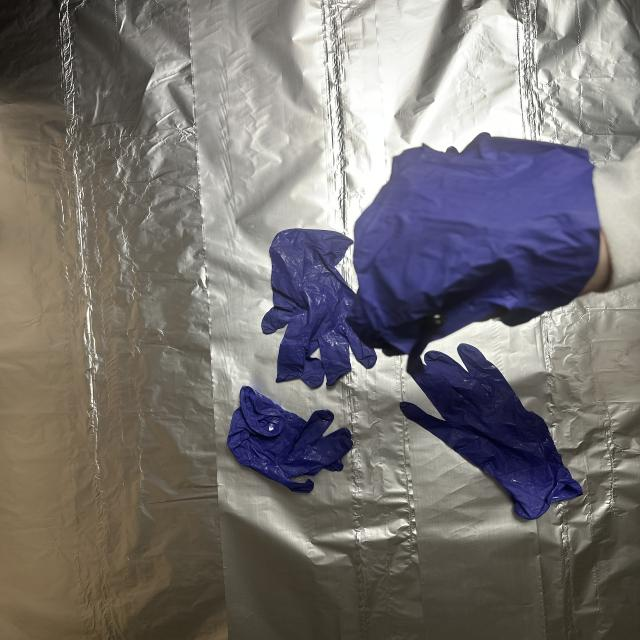glove_not_fitted: (352, 125, 617, 372)
